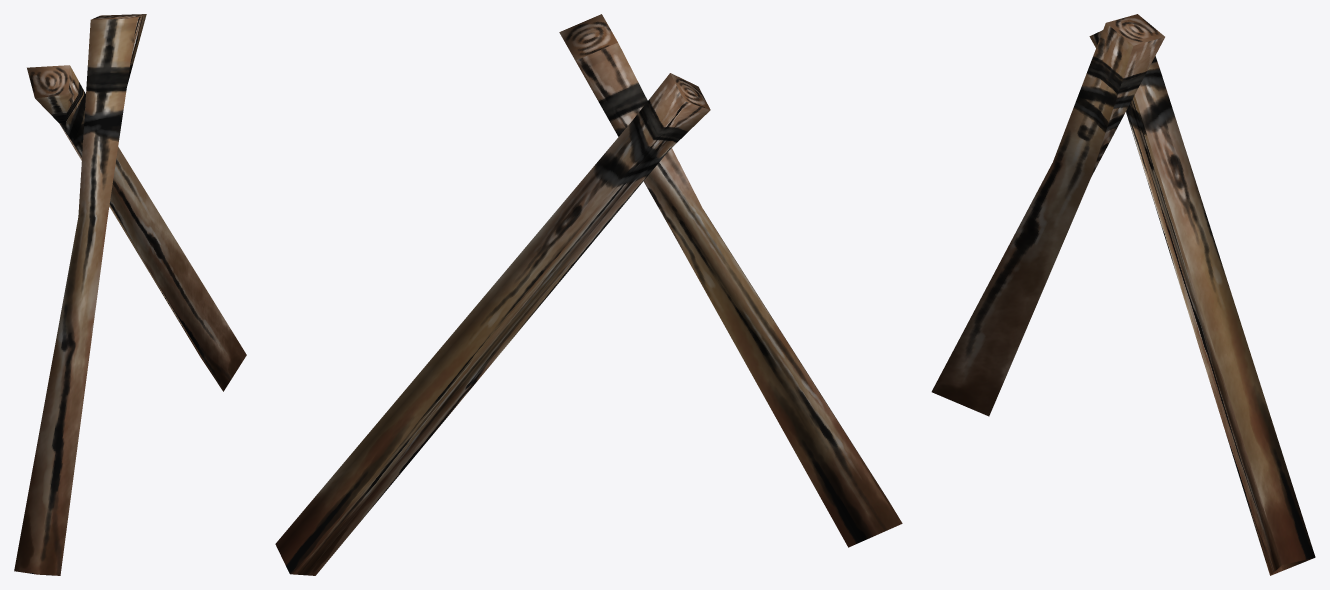
Rendered from PRP_WoodFenceC.FBX.
3 views of the same model, side by side, from view 1: azimuth 30°, elevation 25°; view 2: azimuth 150°, elevation 25°; view 3: azimuth 270°, elevation 25° (orthographic). The views are drawn at different scales.
Parts seen in each view (by area): view 1: PRP_WoodFenceC; view 2: PRP_WoodFenceC; view 3: PRP_WoodFenceC.
Boxes of the visible parts, box(x1,y1,x2,y2) form: PRP_WoodFenceC: box(14, 14, 246, 575); PRP_WoodFenceC: box(275, 14, 902, 575); PRP_WoodFenceC: box(931, 14, 1315, 575).
Bounding box in the file's own units: 133 × 154 × 114.
